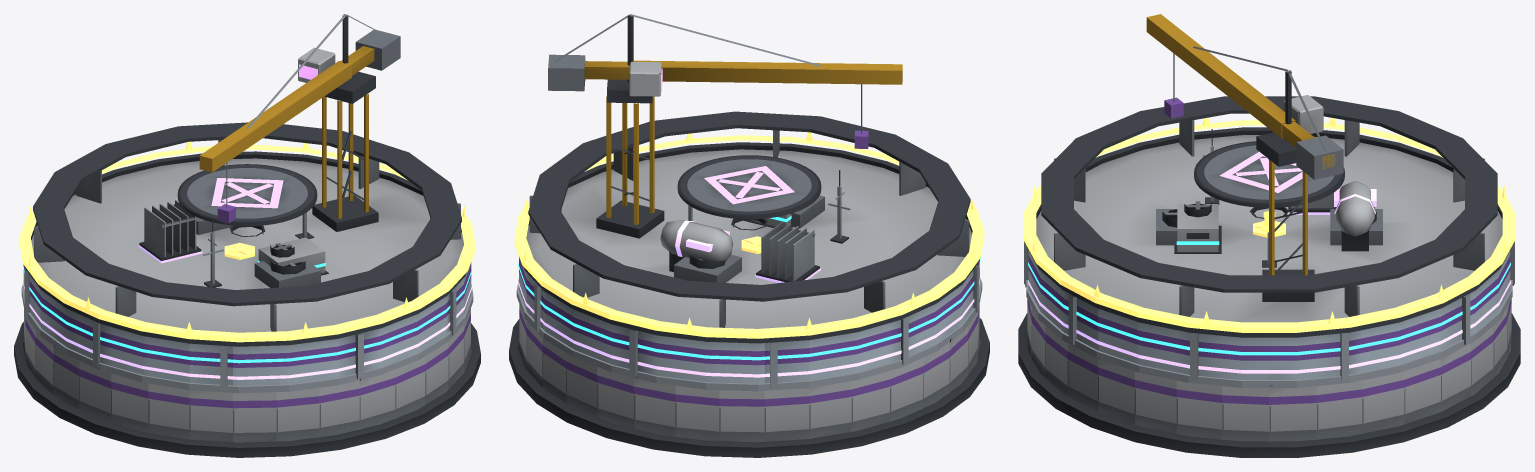
Rendered from cold_storage_s_far.glb.
3 renders of one model, left to right at view 1: azimuth 30°, elevation 25°; view 2: azimuth 150°, elevation 25°; view 3: azimuth 270°, elevation 25°, orthographic. The views are drawn at different scales.
Visible parts, largest first — view 1: Roof, Base, L5, L4, L2, L3; view 2: Roof, Base, L5, L4, L2, L3; view 3: Roof, Base, L5, L4, L2, L3.
Boxes of the visible parts, box(x1,y1,x2,y2) form: Roof: box(23, 14, 471, 390); Base: box(14, 309, 480, 457); L5: box(19, 141, 475, 342); L4: box(23, 200, 471, 379); L2: box(21, 217, 473, 393); L3: box(23, 226, 471, 363); Roof: box(519, 14, 979, 388); Base: box(509, 304, 989, 457); L5: box(514, 132, 984, 338); L4: box(518, 220, 980, 377); L2: box(516, 170, 982, 391); L3: box(518, 213, 980, 360); Roof: box(1024, 14, 1514, 381); Base: box(1018, 284, 1520, 457); L5: box(1024, 117, 1514, 332); L4: box(1028, 181, 1510, 373); L2: box(1026, 129, 1512, 387); L3: box(1028, 201, 1510, 355).
Size of the model in its own units: 10.53 by 7.83 by 10.53.
